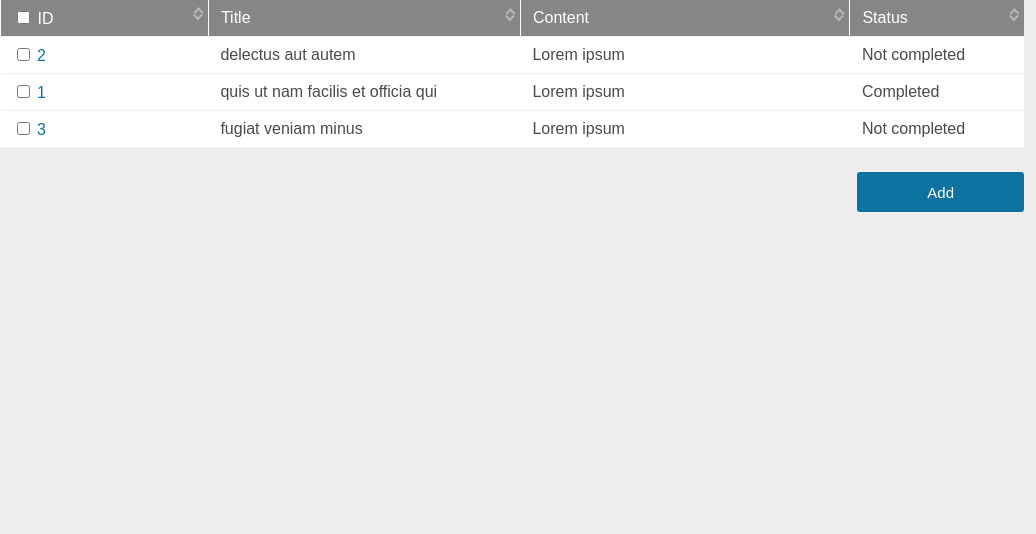
Test case: Notes.vue › opens the new note dialog after clicking the add note button
Click the button with class "notes__addButton" at (941, 192), box [857, 172, 1024, 212]
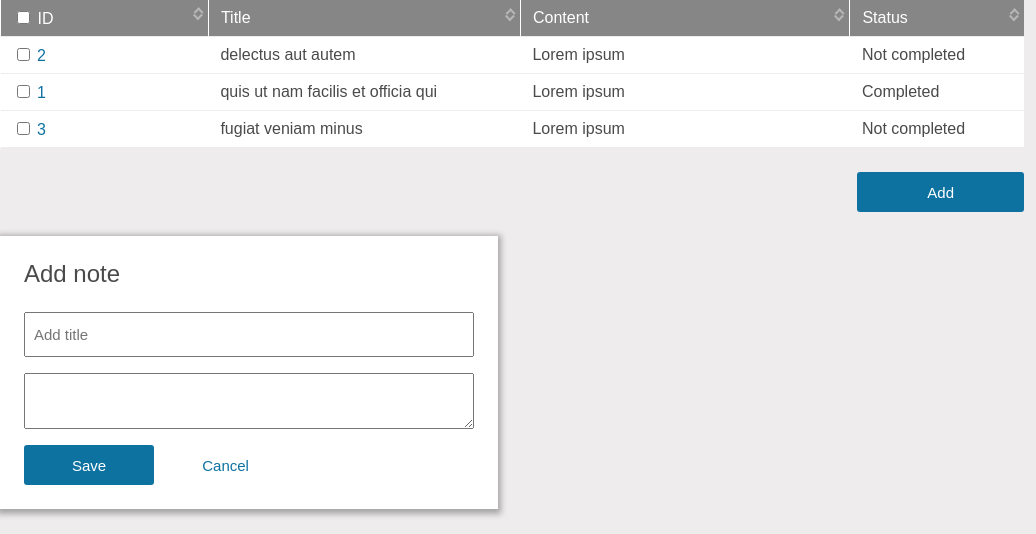
Expected: the element showing "Add note Save Cancel" is shown, [0, 236, 498, 509]
